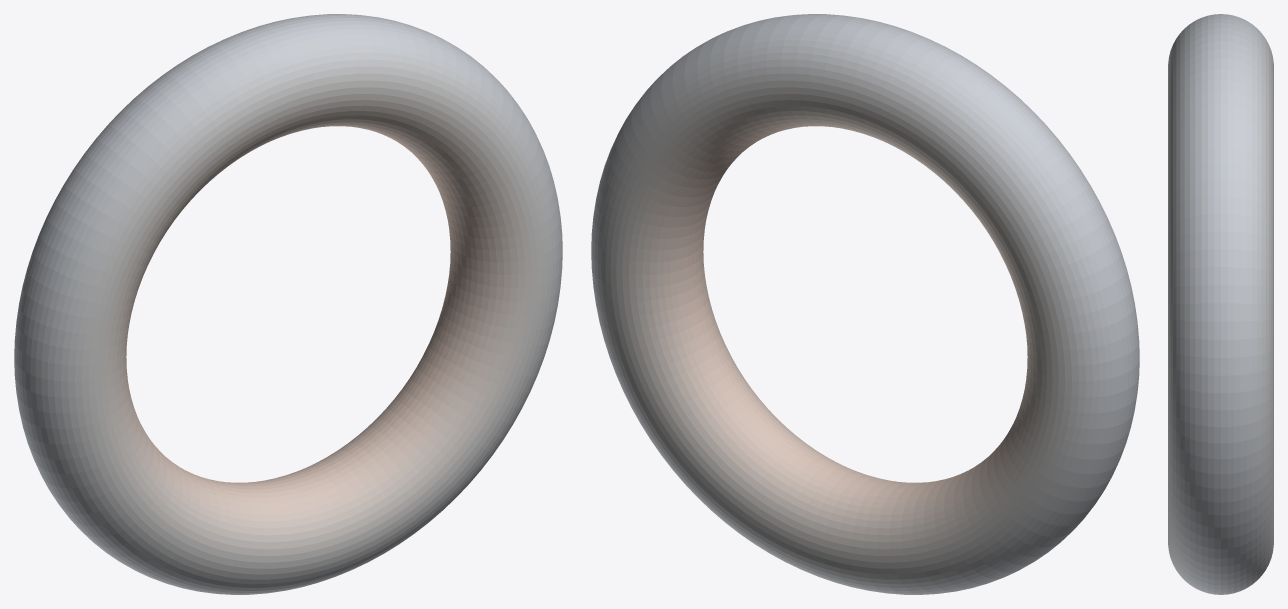
3 renders of one model, left to right at view 1: azimuth 30°, elevation 25°; view 2: azimuth 150°, elevation 25°; view 3: azimuth 270°, elevation 25°, orthographic. The views are drawn at different scales.
Visible parts, largest first — view 1: world; view 2: world; view 3: world.
Part boxes in pixels (left/top/right/bottom): world: left=14, top=14, right=562, bottom=594; world: left=591, top=14, right=1139, bottom=594; world: left=1168, top=14, right=1273, bottom=594.
Size of the model in its own units: 28.53 by 28.53 by 5.19.
